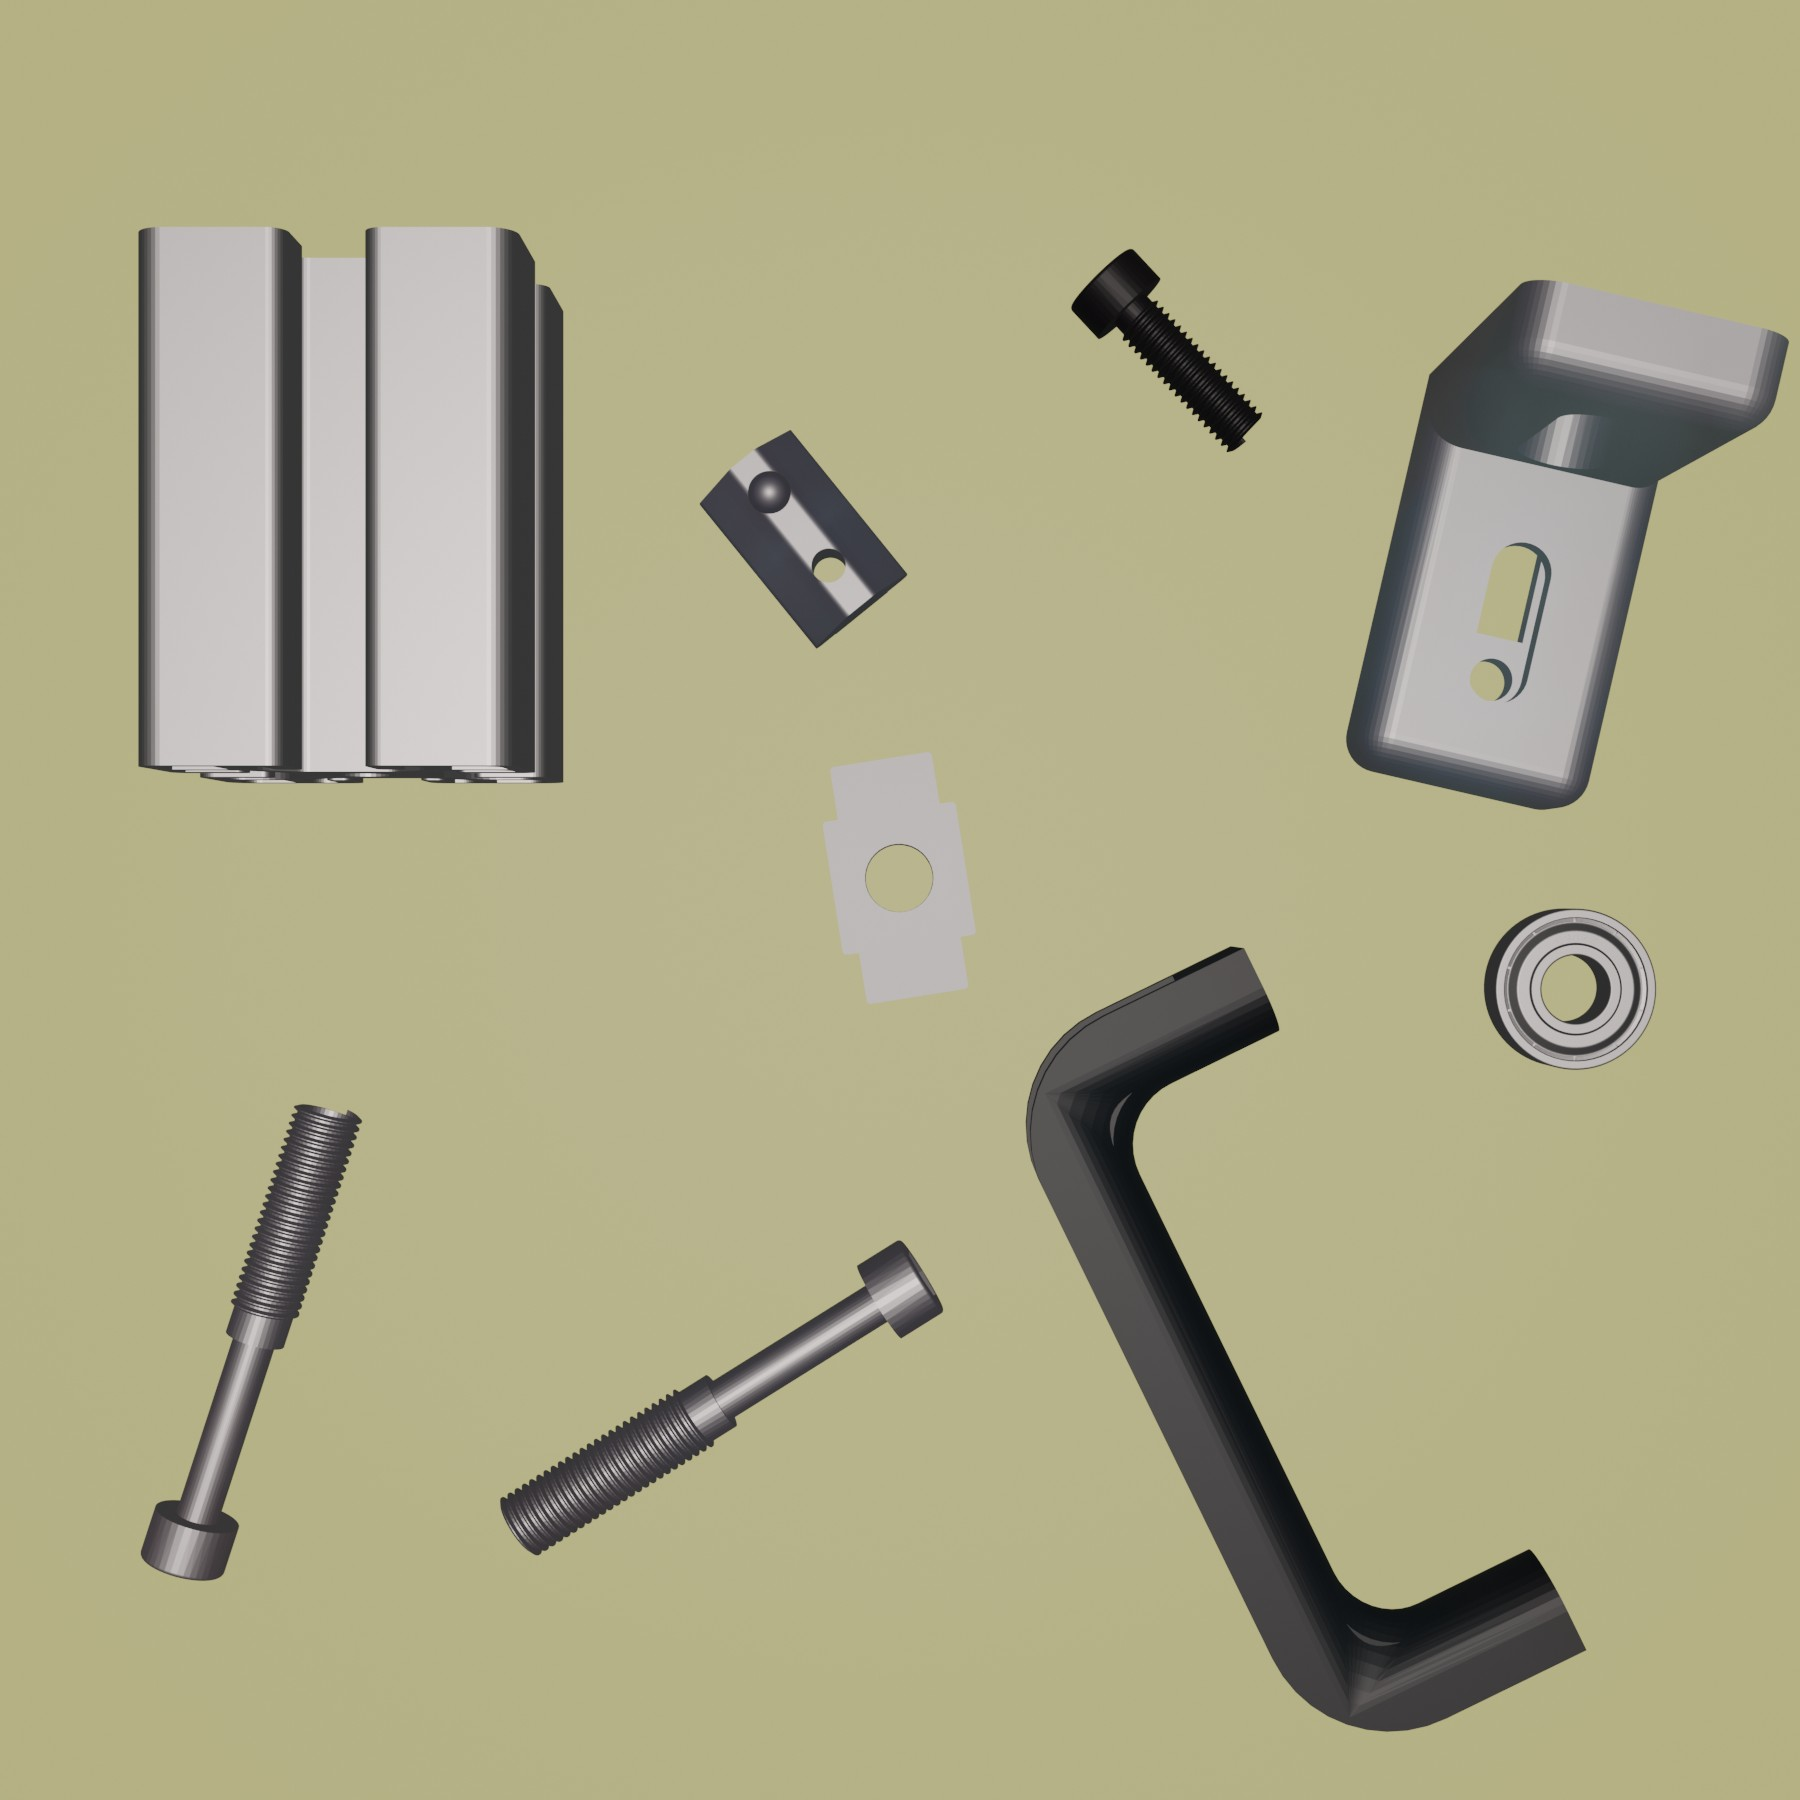Aluminium Extension: (135, 223, 570, 791)
Ball Bearing: (1480, 905, 1658, 1073)
Multiwinkel: (1347, 275, 1792, 811)
Pull Handle: (1020, 945, 1589, 1734)
Shoulder Socket Head Cap Screw: (498, 1236, 946, 1558), (140, 1099, 361, 1582)
Socket Head Cap Screw: (1066, 246, 1264, 453)
T Nut Square: (816, 752, 982, 1009)
T Spring Nut: (697, 427, 908, 649)
